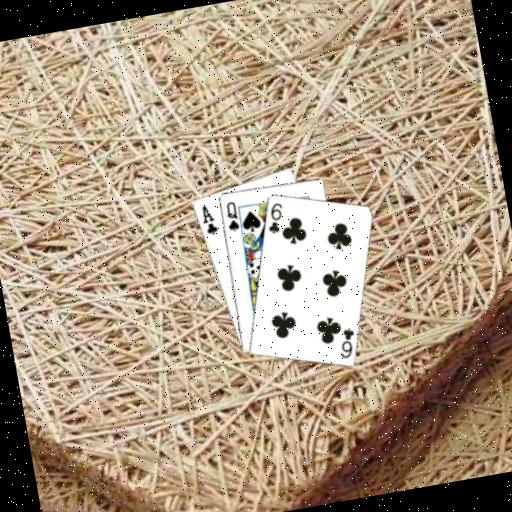6C: (260, 199, 288, 236), (332, 324, 359, 361)
AC: (195, 200, 219, 237)
QS: (220, 197, 241, 233)
